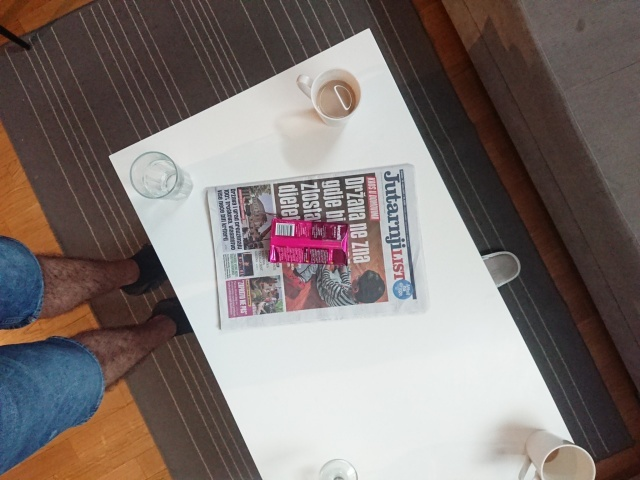Barcaffe Classic Original 225g: (267, 216, 352, 268)
